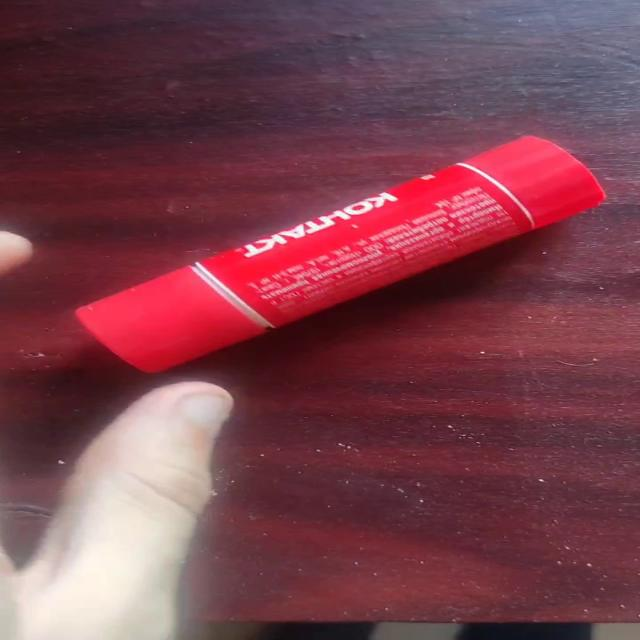glue: (73, 133, 606, 374)
